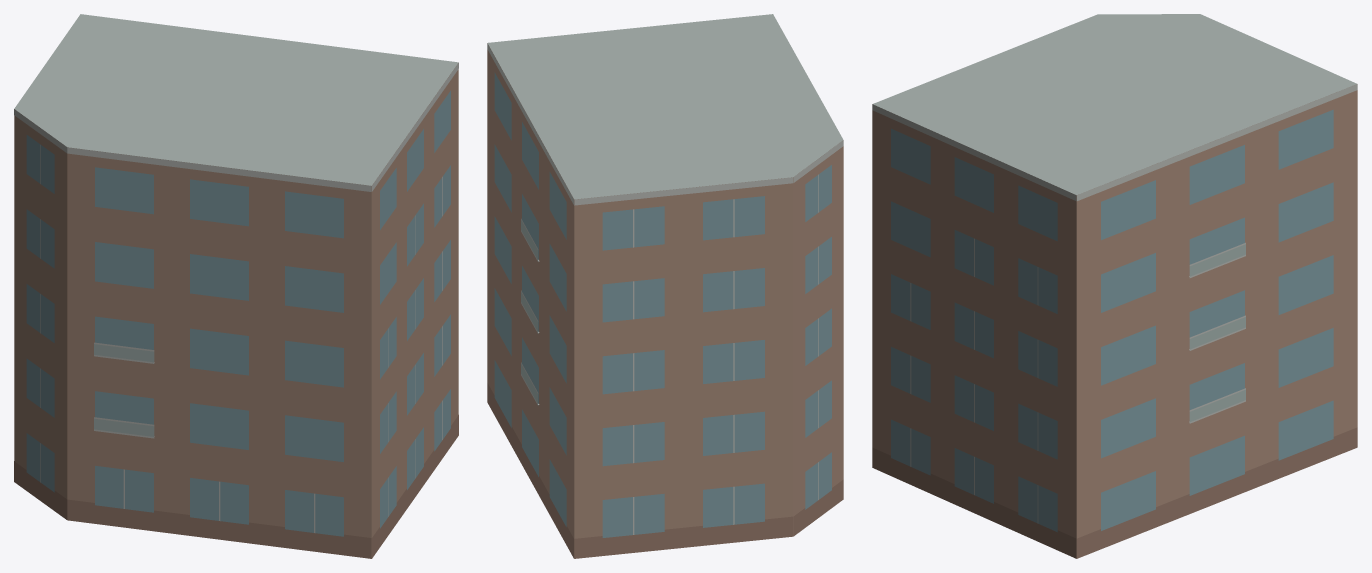
File: survey-upis-33000187.glb
3 views of the same model, side by side, from view 1: azimuth 30°, elevation 25°; view 2: azimuth 150°, elevation 25°; view 3: azimuth 270°, elevation 25° (orthographic). The views are drawn at different scales.
Visible parts, largest first — view 1: survey-upis-33000187.tmp; view 2: survey-upis-33000187.tmp; view 3: survey-upis-33000187.tmp.
Part boxes in pixels (<box>): survey-upis-33000187.tmp: <box>14,14,458,558</box>; survey-upis-33000187.tmp: <box>487,14,843,558</box>; survey-upis-33000187.tmp: <box>872,14,1357,558</box>.
Bounding box in the file's own units: 15.46 × 14.45 × 17.48.
